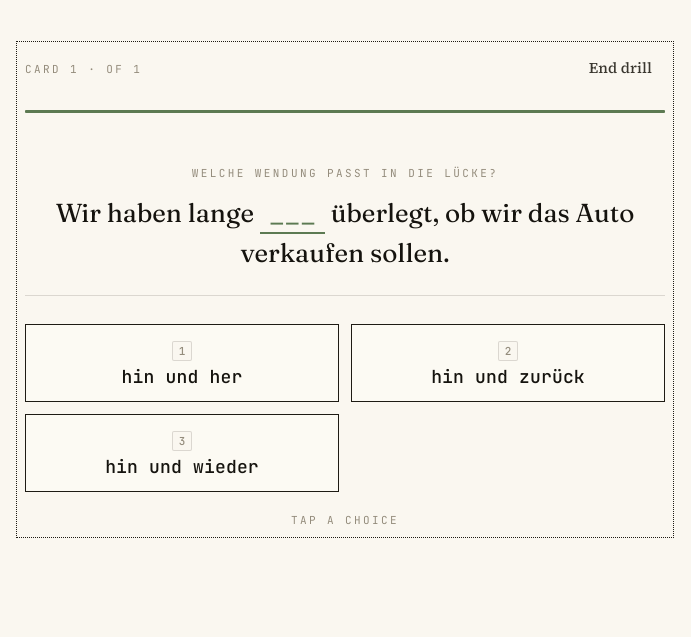
Test: IdiomRunner — the reveal › a CORRECT pick also reveals the filled sentence and the explanation
What coordinates should you click on to do the following:
click the button with class "choice" showing "1 hin und her"
I would click on:
 (182, 363)
Its box is [25,324,339,402].
(page scrolled)
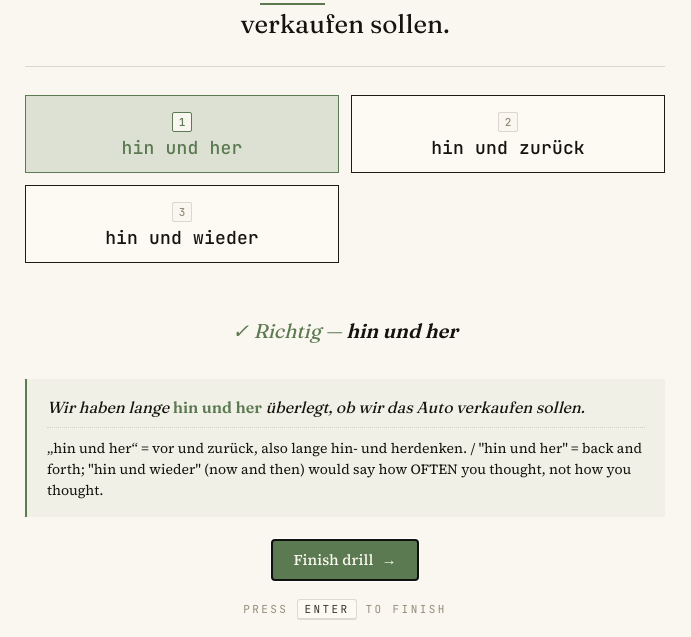
Now the element with class "correct" showing "✓ Richtig — hin und her" is shown, box [232,315,458,347]
Now the text with class "im-explanation" shows "„hin und her“ = vor und zurück, also lange hin- und herdenken. / \"hin und her\" = back and forth; \"hin und wieder\" (now and then) would say how OFTEN you thought", box [47,438,642,500]
Now the element with class "im-filled" reads "Wir haben lange hin und her überlegt, ob wir das Auto verkaufen sollen.", box [47,395,645,428]
